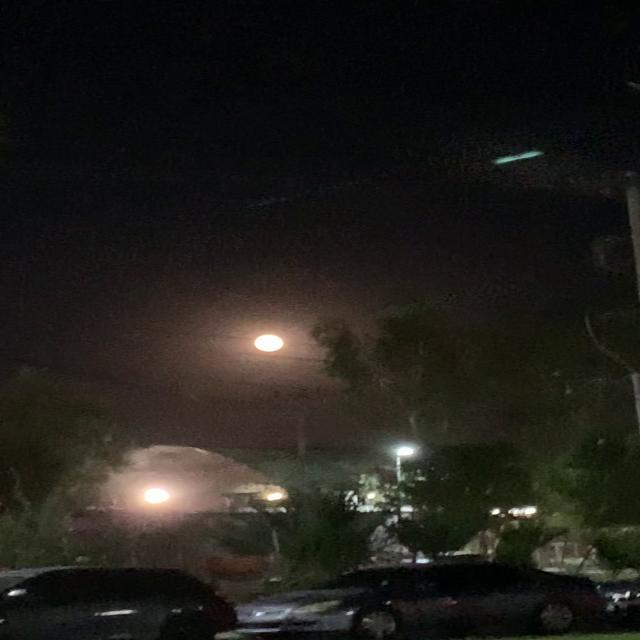moon: (243, 330, 296, 355)
